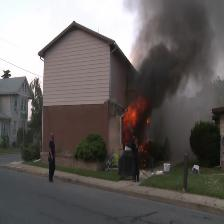fire: (120, 102, 148, 133)
smoke: (121, 0, 224, 103), (116, 92, 158, 157)
